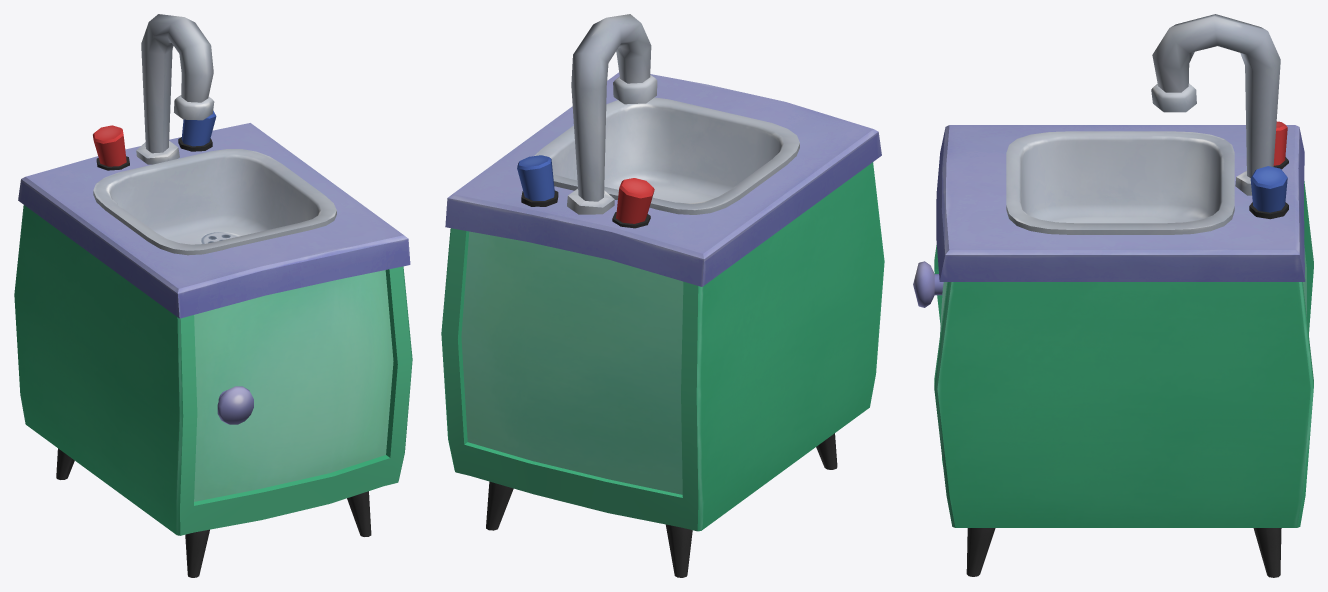
Rendered from KitchenCabinetSink.FBX.
The picture shows the model from 3 angles, left to right: view 1: azimuth 30°, elevation 25°; view 2: azimuth 150°, elevation 25°; view 3: azimuth 270°, elevation 25°; orthographic projection. The views are drawn at different scales.
Parts seen in each view (by area): view 1: KitchenCabinetSink; view 2: KitchenCabinetSink; view 3: KitchenCabinetSink.
Part boxes in pixels (x1,y1,x2,y2): KitchenCabinetSink: (14, 14, 412, 577); KitchenCabinetSink: (441, 14, 884, 577); KitchenCabinetSink: (913, 14, 1313, 577).
Bounding box in the file's own units: 72.17 × 135 × 95.31.
